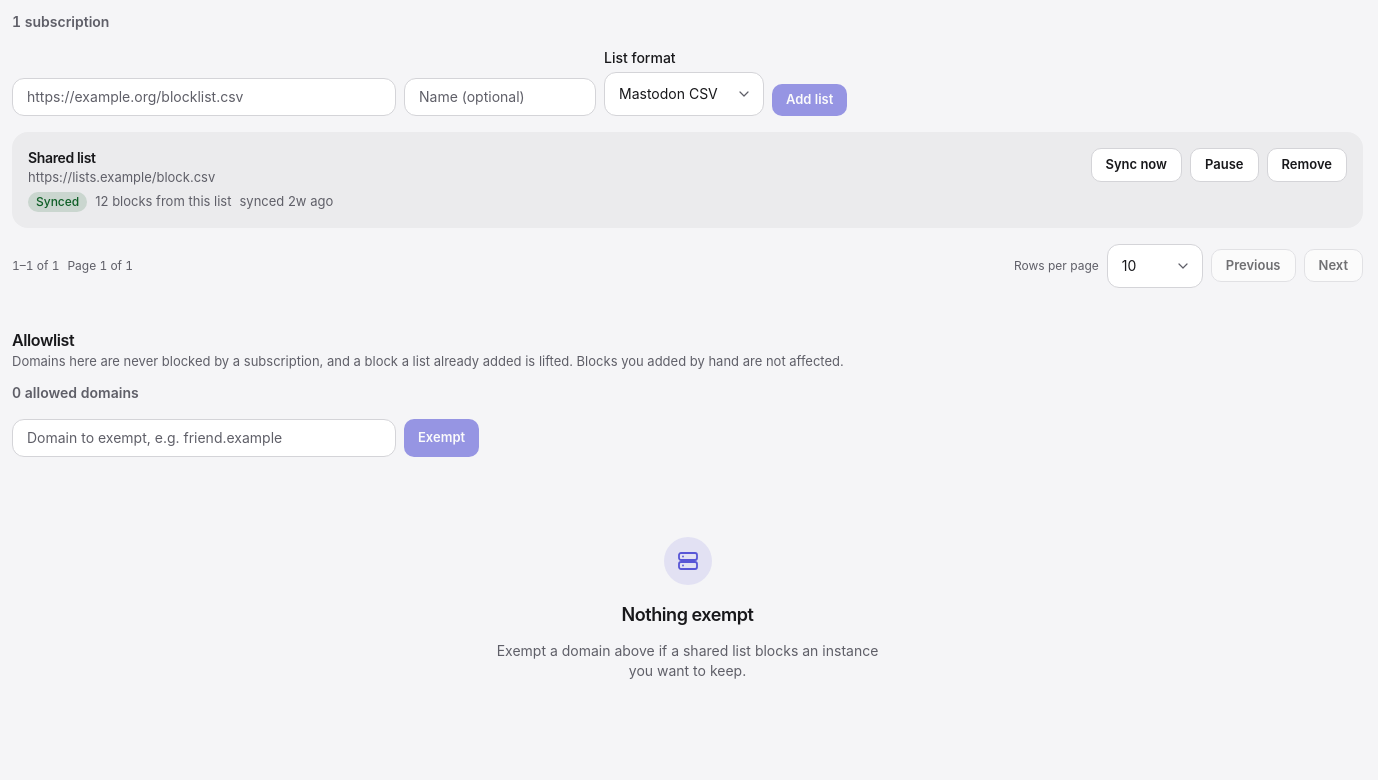
Scenario: AdminBlocklistSubscriptionsView › tells the admin to wait when sync-now is rate limited
The width and height of the screenshot is (1378, 780).
Click the button with aria-label "Sync Shared list now" at x=1136, y=165, box [1090,148,1182,182]
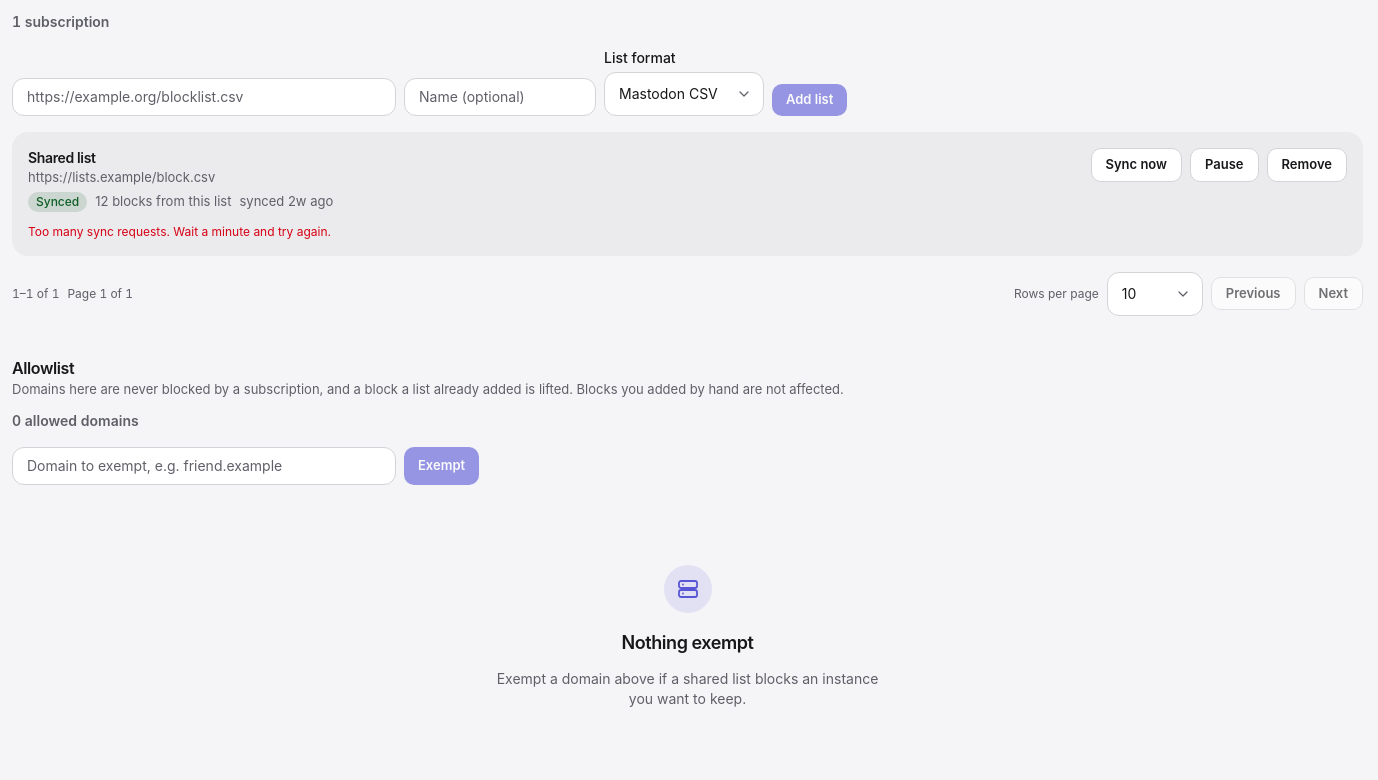
Check: the message shows "Wait a minute", box [28,224,331,238]
